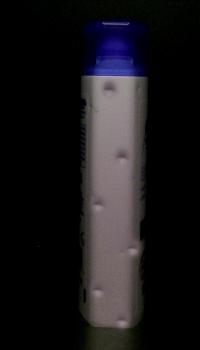dent_unacceptable: (87, 282, 110, 299), (114, 311, 135, 329), (99, 81, 117, 98), (114, 151, 132, 168), (90, 196, 106, 214), (123, 240, 141, 256)
